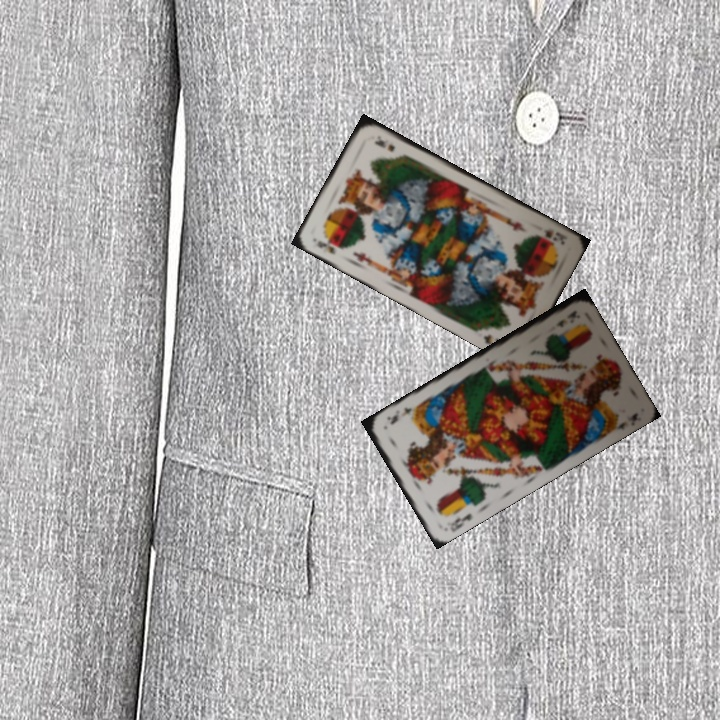EK: (552, 306, 581, 330), (447, 509, 474, 534)
SK: (313, 236, 346, 257), (539, 225, 570, 247)
